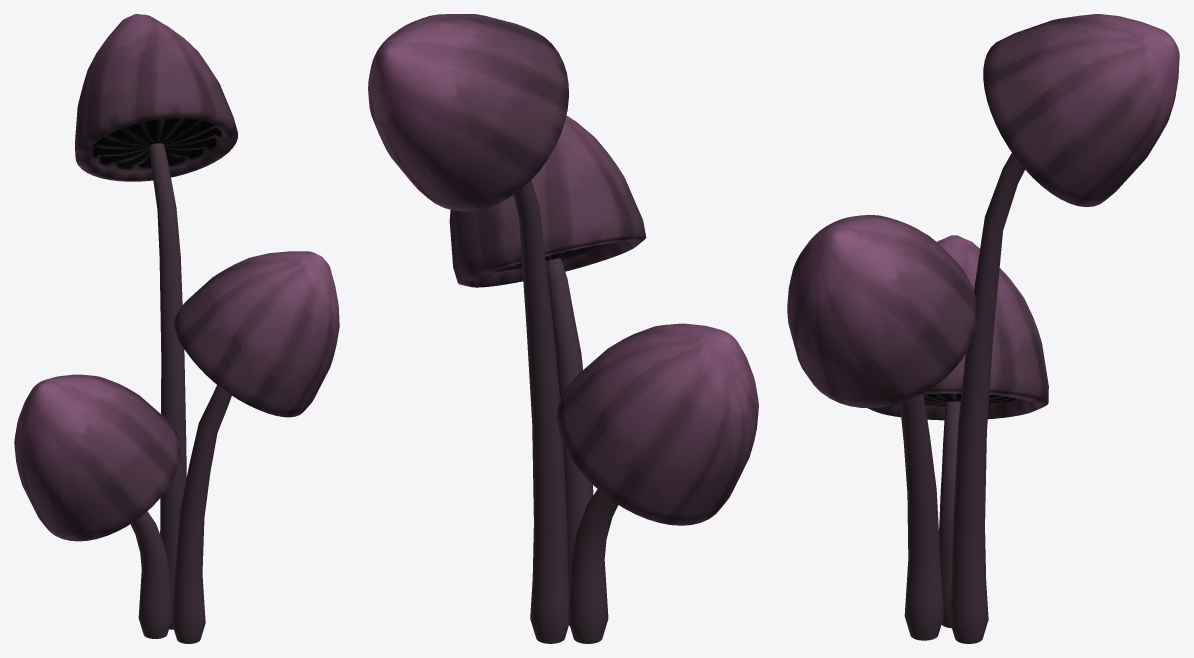
File: lankyShrooms_V2_Model.fbx
The picture shows the model from 3 angles, left to right: view 1: azimuth 30°, elevation 25°; view 2: azimuth 150°, elevation 25°; view 3: azimuth 270°, elevation 25°; orthographic projection. The views are drawn at different scales.
Parts seen in each view (by area): view 1: lankyShroom_L_Model, lankyShroom_M_Model, lankyShroom_S_Model; view 2: lankyShroom_L_Model, lankyShroom_S_Model, lankyShroom_M_Model; view 3: lankyShroom_L_Model, lankyShroom_M_Model, lankyShroom_S_Model.
Part boxes in pixels (<box>): lankyShroom_L_Model: <box>75,14,237,629</box>; lankyShroom_M_Model: <box>172,251,339,643</box>; lankyShroom_S_Model: <box>14,374,180,638</box>; lankyShroom_L_Model: <box>368,14,569,643</box>; lankyShroom_S_Model: <box>557,323,758,643</box>; lankyShroom_M_Model: <box>449,115,646,625</box>; lankyShroom_L_Model: <box>949,14,1179,643</box>; lankyShroom_M_Model: <box>787,215,977,640</box>; lankyShroom_S_Model: <box>867,235,1048,628</box>.
Size of the model in its own units: 2.95 by 5.66 by 3.17.
1 material, 1 textured.
